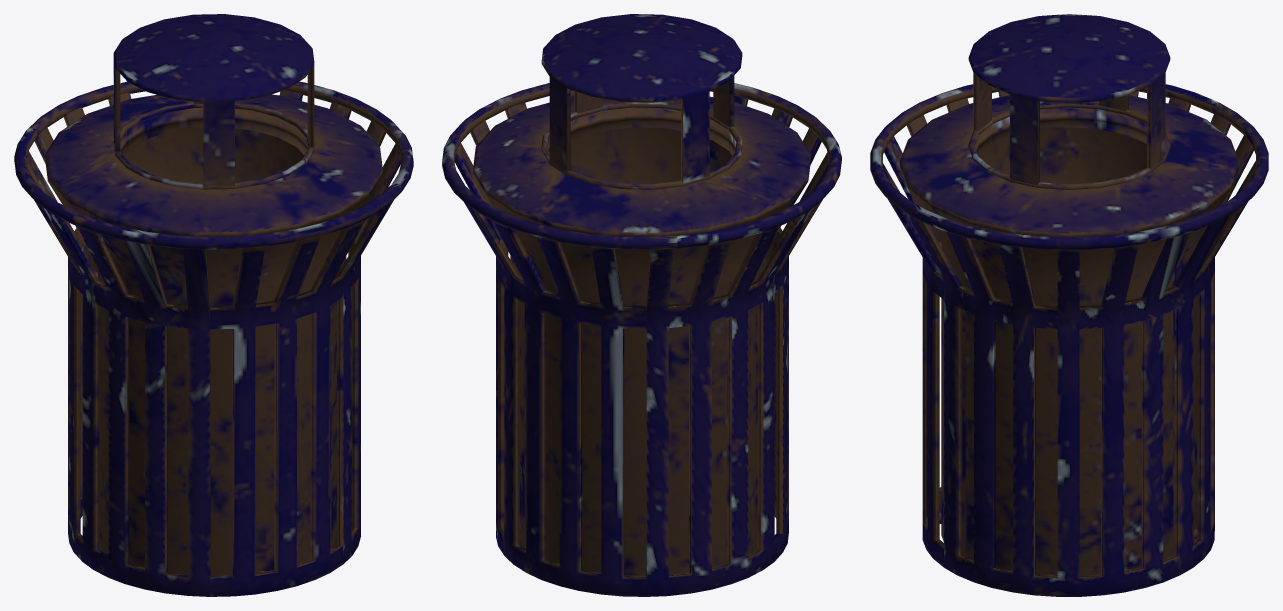
Rendered from trashcan0.glb.
The picture shows the model from 3 angles, left to right: view 1: azimuth 30°, elevation 25°; view 2: azimuth 150°, elevation 25°; view 3: azimuth 270°, elevation 25°; orthographic projection.
Parts seen in each view (by area): view 1: TrashCanCap_TrashCanCap_shader_0; view 2: TrashCanCap_TrashCanCap_shader_0; view 3: TrashCanCap_TrashCanCap_shader_0.
Boxes of the visible parts, box(x1,y1,x2,y2) form: TrashCanCap_TrashCanCap_shader_0: box(14, 14, 413, 596); TrashCanCap_TrashCanCap_shader_0: box(442, 14, 841, 596); TrashCanCap_TrashCanCap_shader_0: box(870, 14, 1268, 596).
Bounding box in the file's own units: 0.9266 × 1.26 × 0.9266.
Materials: 1 (1 with a texture image).
